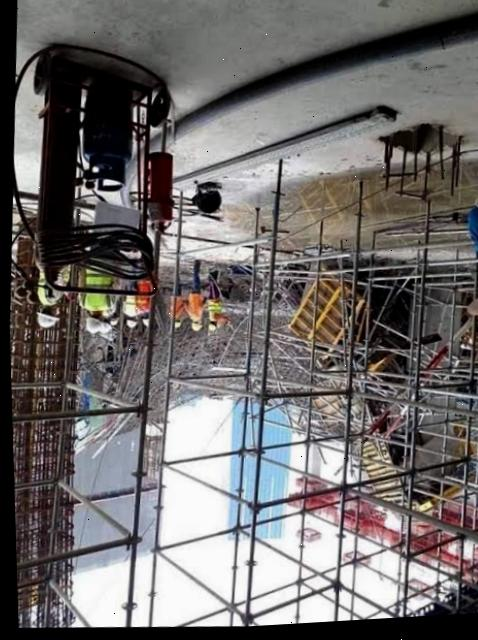helmet: (30, 312, 56, 331), (79, 316, 99, 333), (118, 319, 136, 330), (95, 322, 111, 334), (134, 318, 150, 329), (202, 324, 218, 335), (166, 320, 182, 330), (104, 319, 117, 330), (187, 324, 201, 334)
vest: (78, 264, 109, 312), (35, 259, 62, 302), (160, 292, 181, 322), (130, 284, 149, 316), (204, 298, 223, 324), (185, 293, 202, 322), (99, 297, 113, 315)
